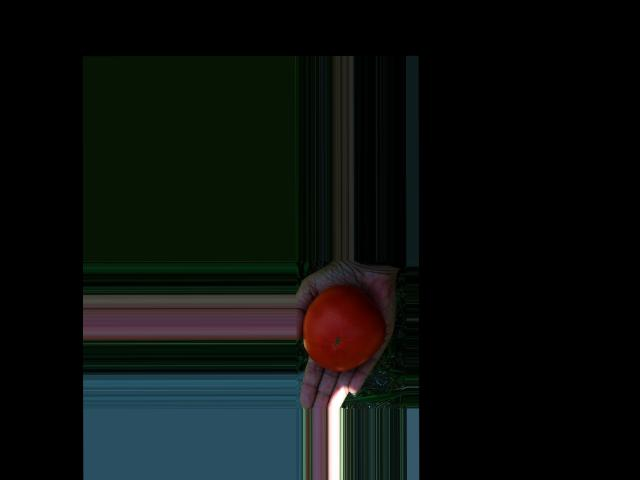tomato: (302, 286, 386, 371)
